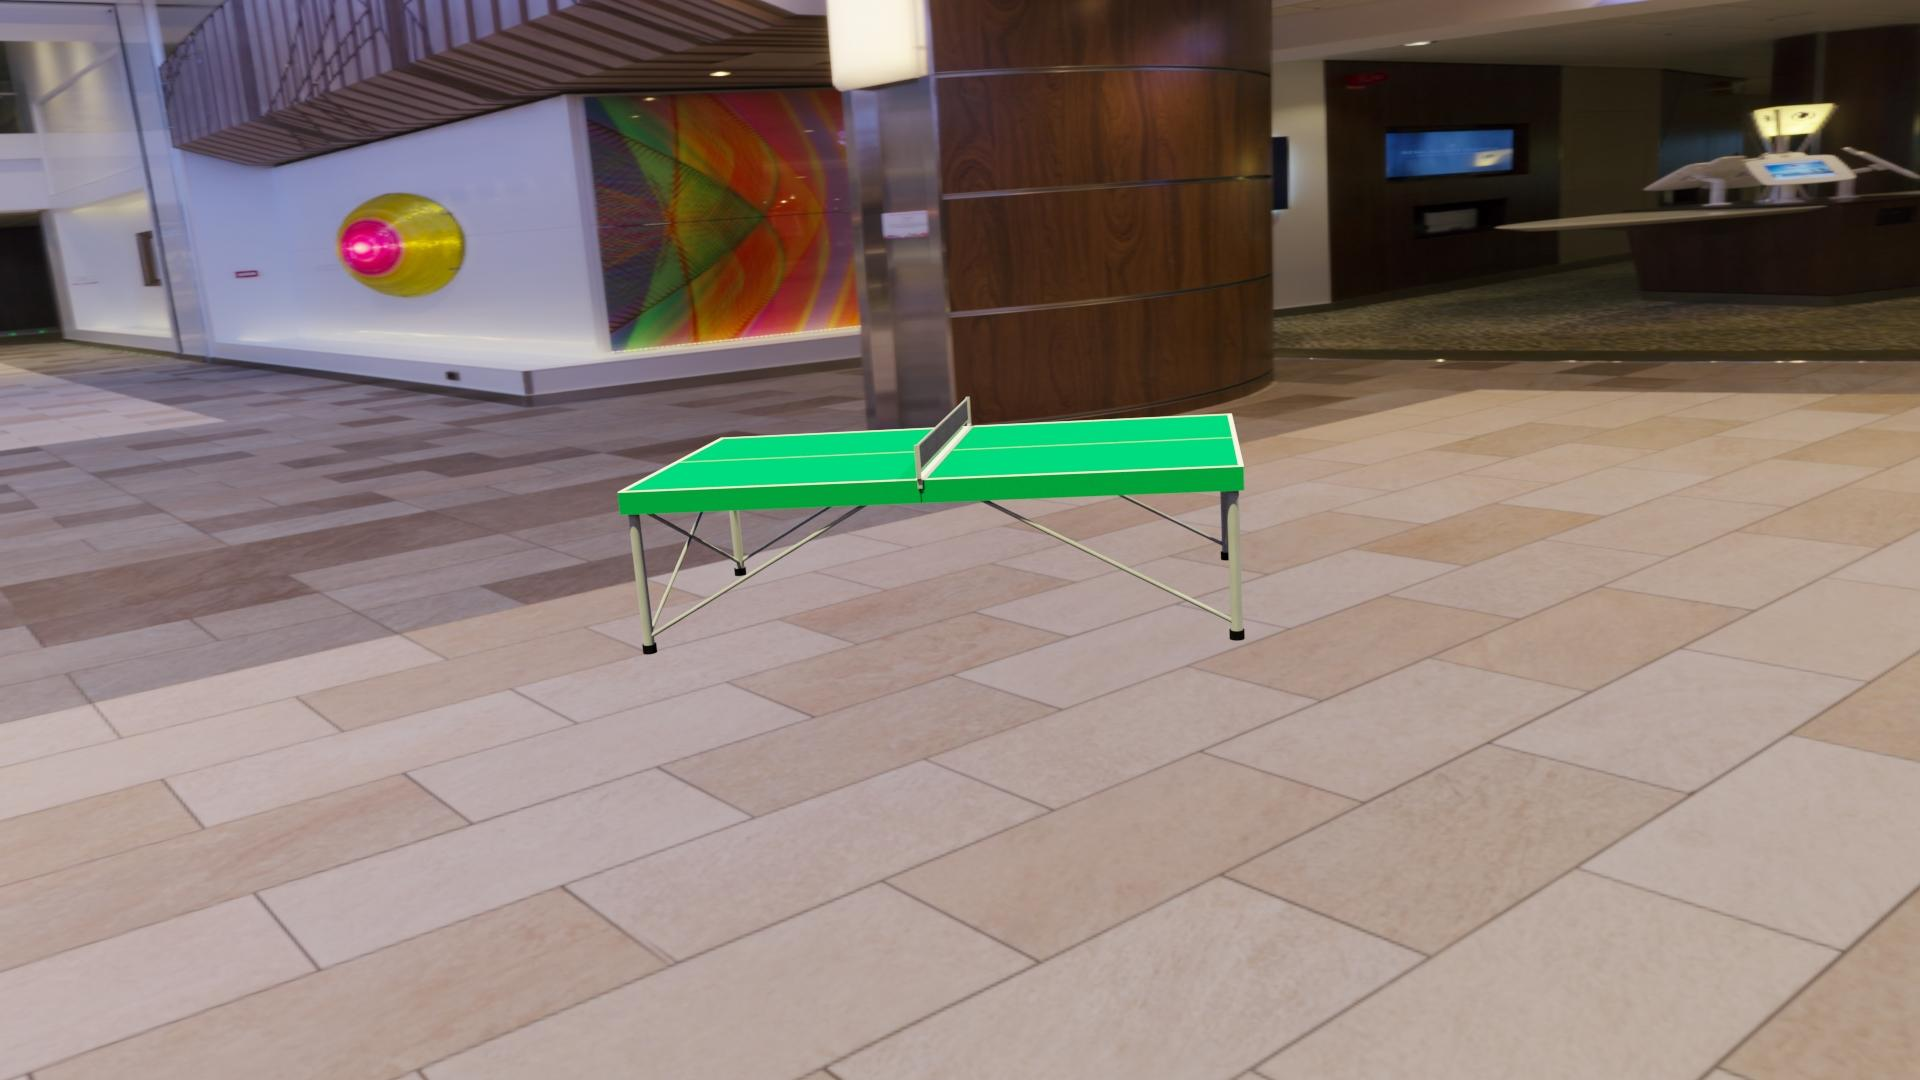table: (624, 414, 1238, 492)
